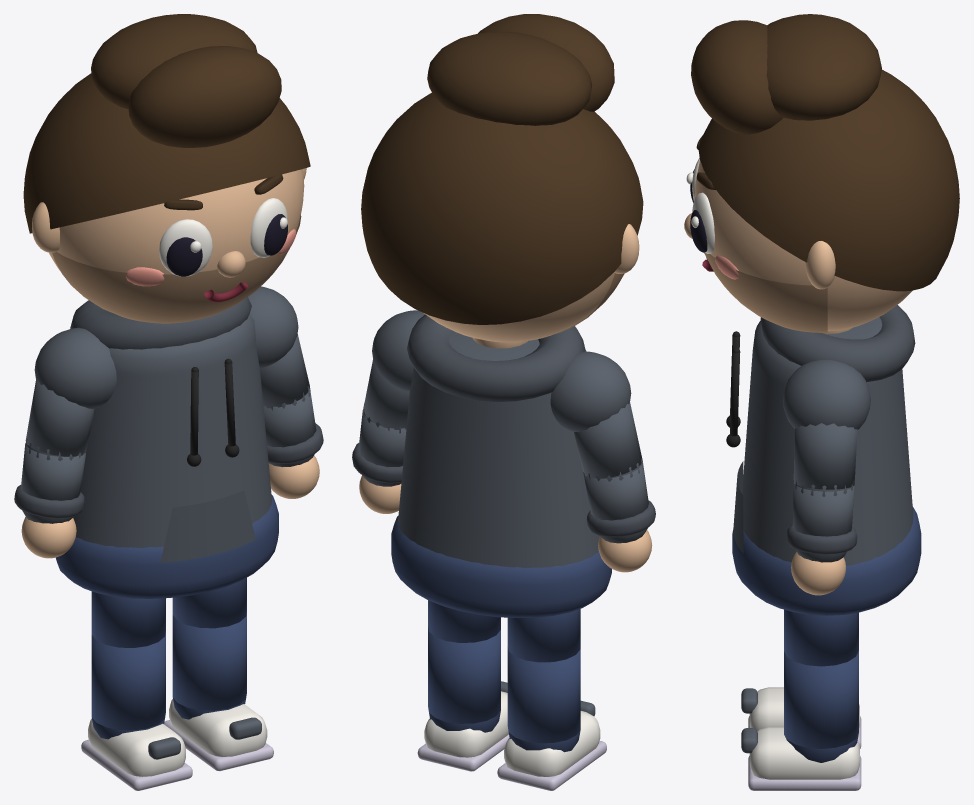
The model's file is ch_senior.fbx.
3 views of the same model, side by side, from view 1: azimuth 30°, elevation 25°; view 2: azimuth 150°, elevation 25°; view 3: azimuth 270°, elevation 25° (orthographic).
Parts seen in each view (by area): view 1: ch_senior; view 2: ch_senior; view 3: ch_senior.
Boxes of the visible parts, box(x1,y1,x2,y2) form: ch_senior: box(14, 14, 323, 790); ch_senior: box(352, 14, 655, 790); ch_senior: box(684, 14, 959, 790).
Bounding box in the file's own units: 0.6598 × 1.53 × 0.5249.
